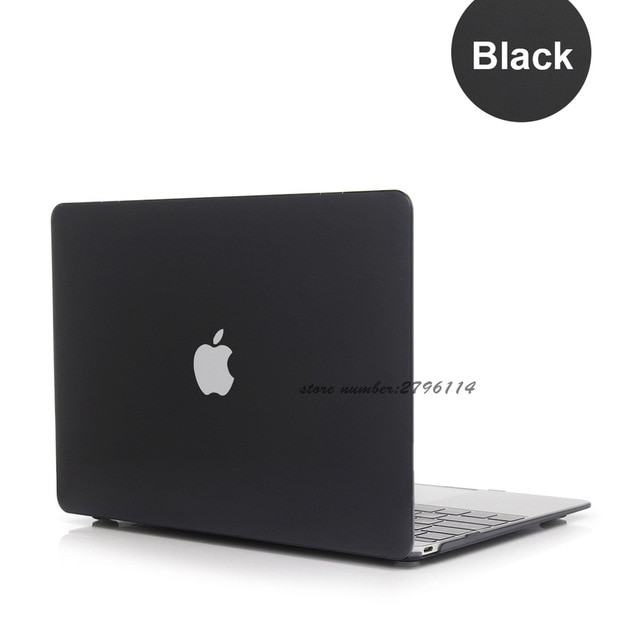apple: (187, 325, 245, 417)
